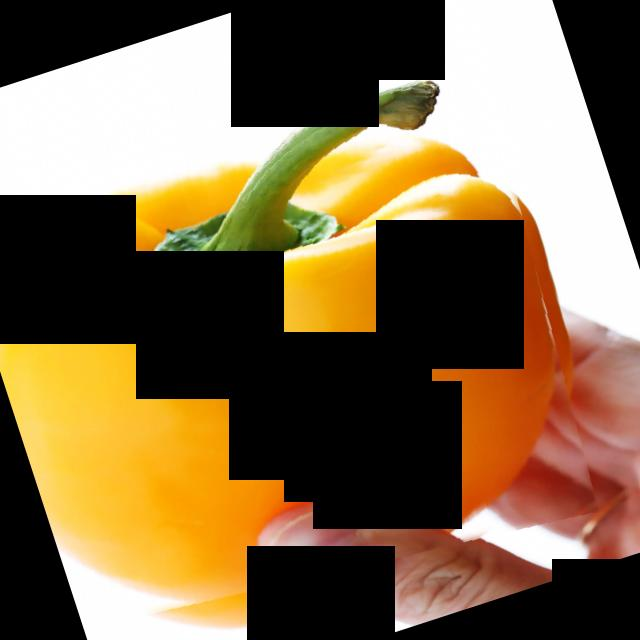pepper: (0, 60, 625, 640)
